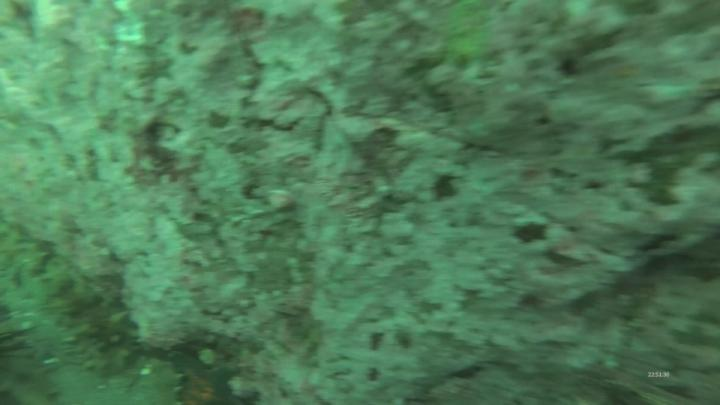starfish: (173, 359, 242, 405)
